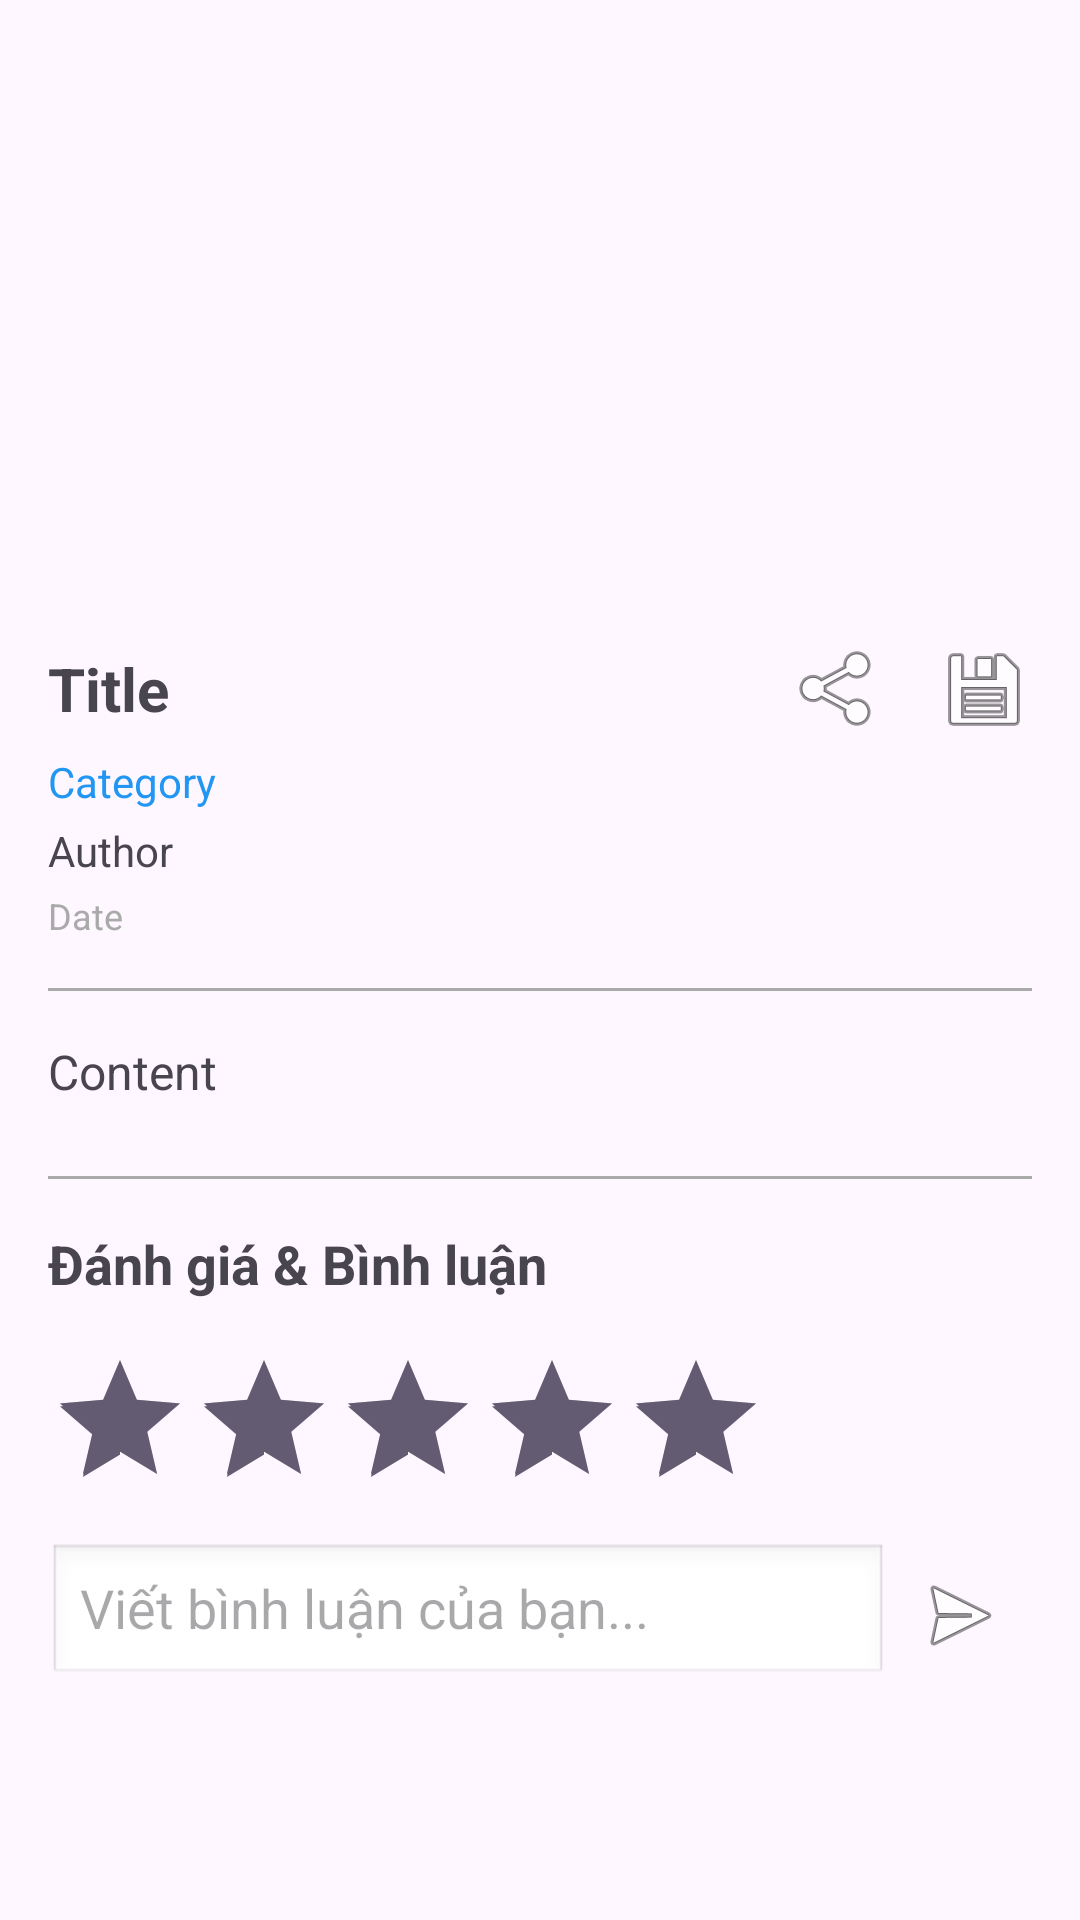

Screen size 1080px x 1920px. Icon name, then its box in pixels as rect(x1, y1, x2, y2):
Save: rect(948, 653, 1020, 726)
Send: rect(930, 1585, 992, 1646)
Share: rect(799, 651, 871, 726)
